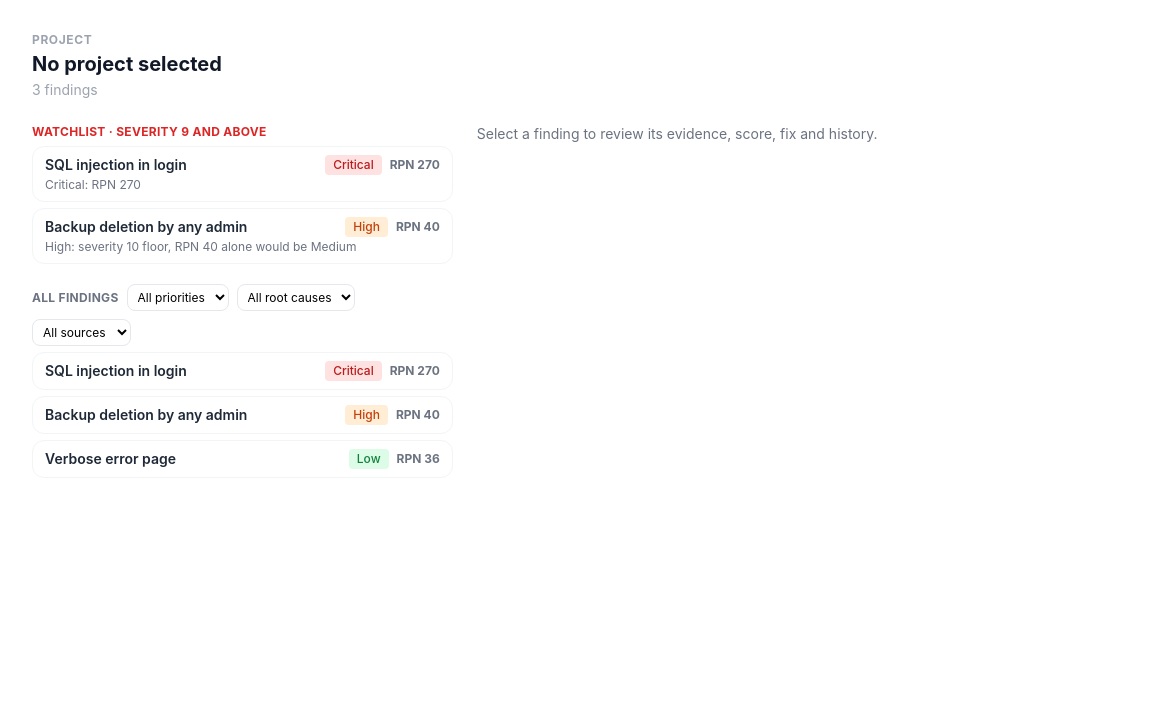
Test: review follow-ups › does not offer the state a finding is already in
This screenshot has width=1152, height=720.
Click the button "SQL injection in login Critical RPN 270 Critical: RPN 270" at (116, 164), box [32,146,453,202]
(page scrolled)
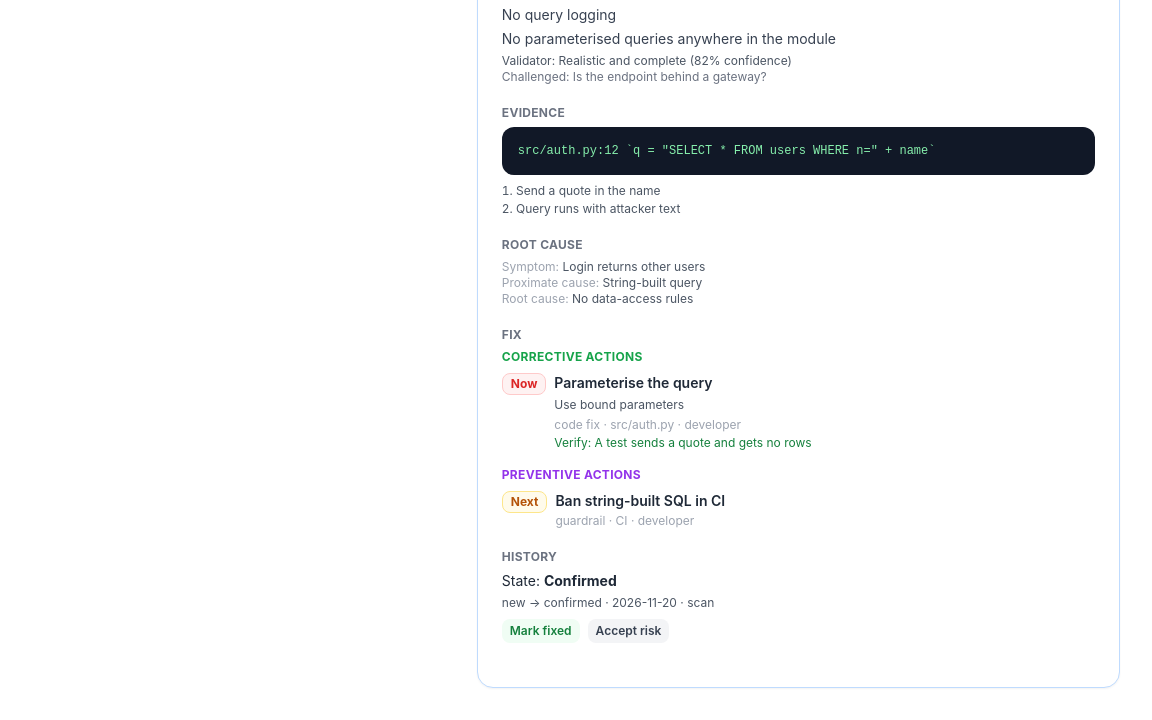
Now the button "Mark fixed" is shown, box [502,618,580,642]
Now the button "Accept risk" is shown, box [588,618,669,642]
